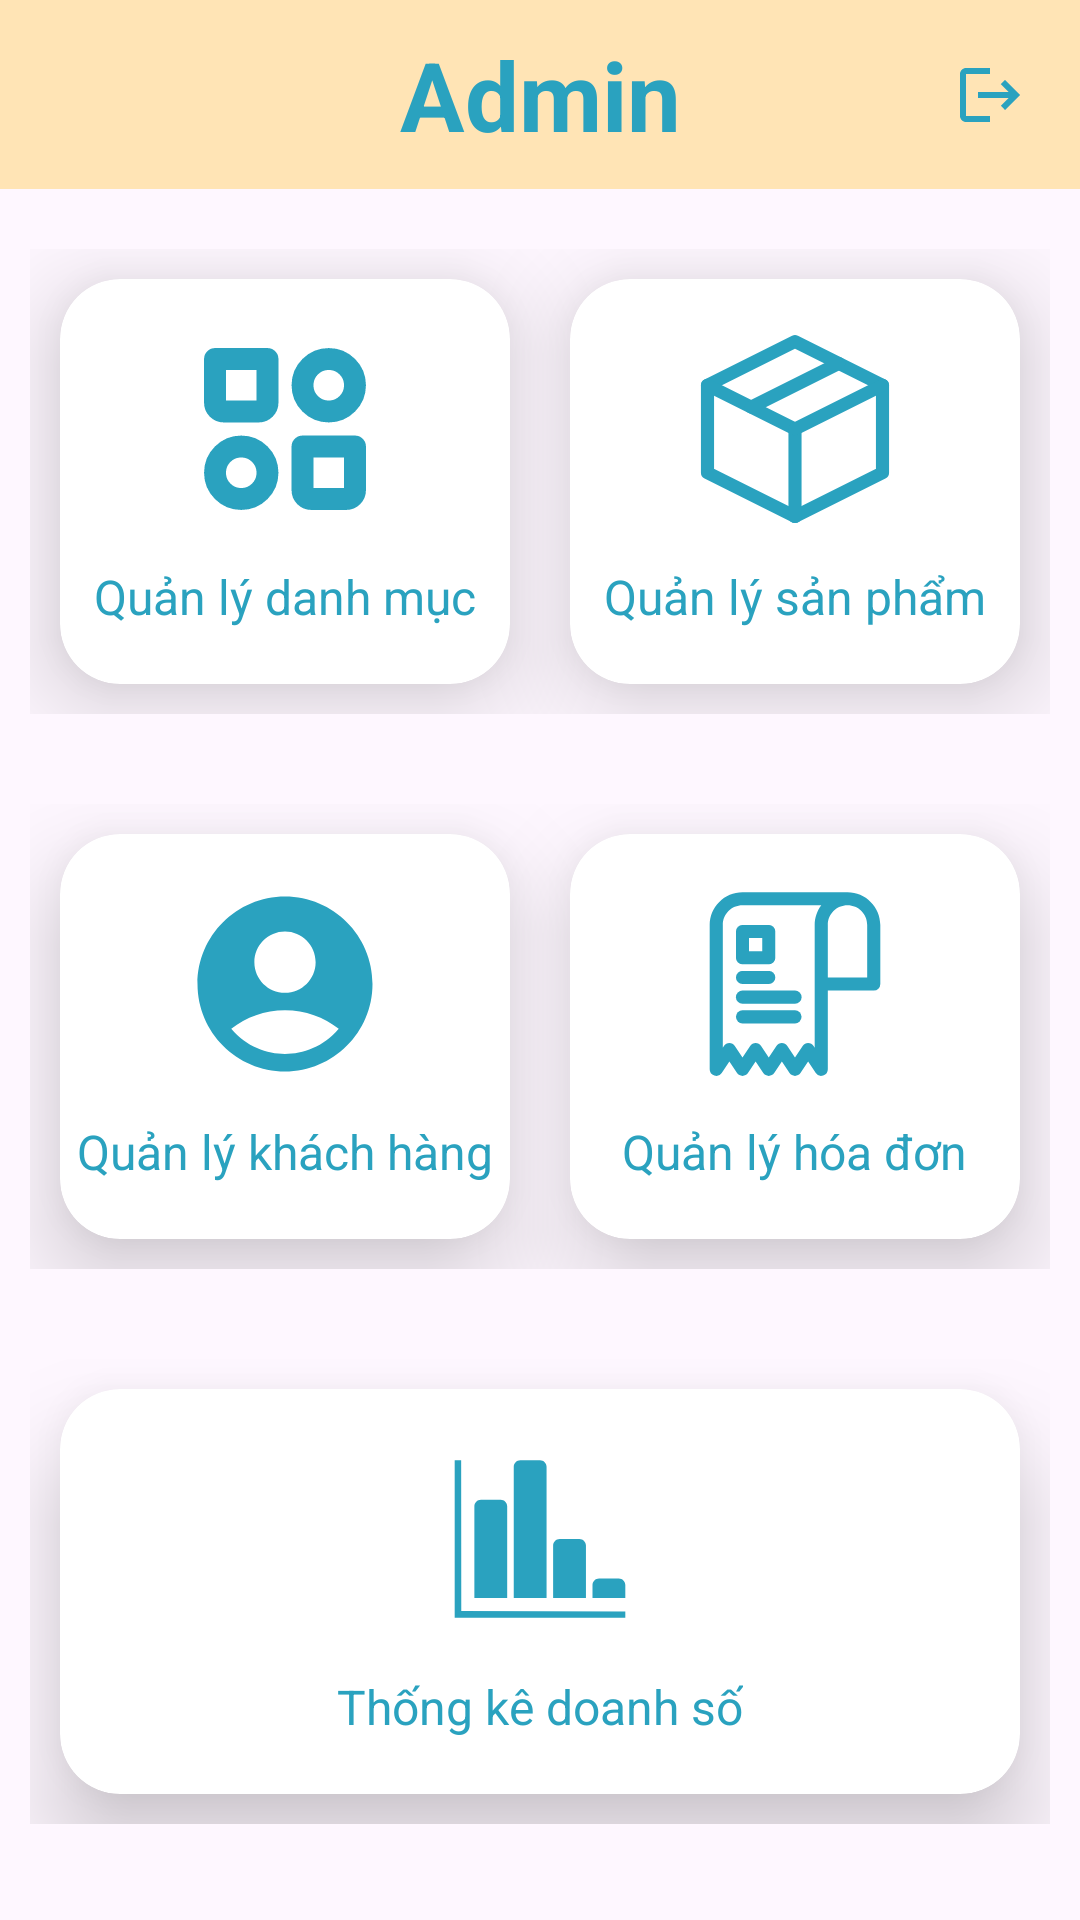

Named icons in this screenshot (1080w x 1920h) and their centers, (x,y):
category: (285,429)
chart: (540,1539)
user: (285,984)
